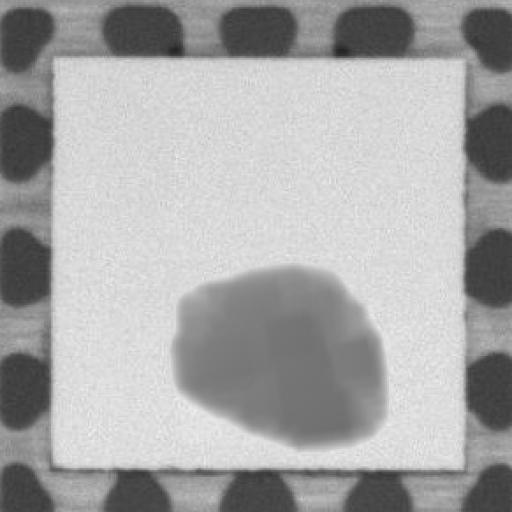DIE_INK: (162, 254, 394, 458)
